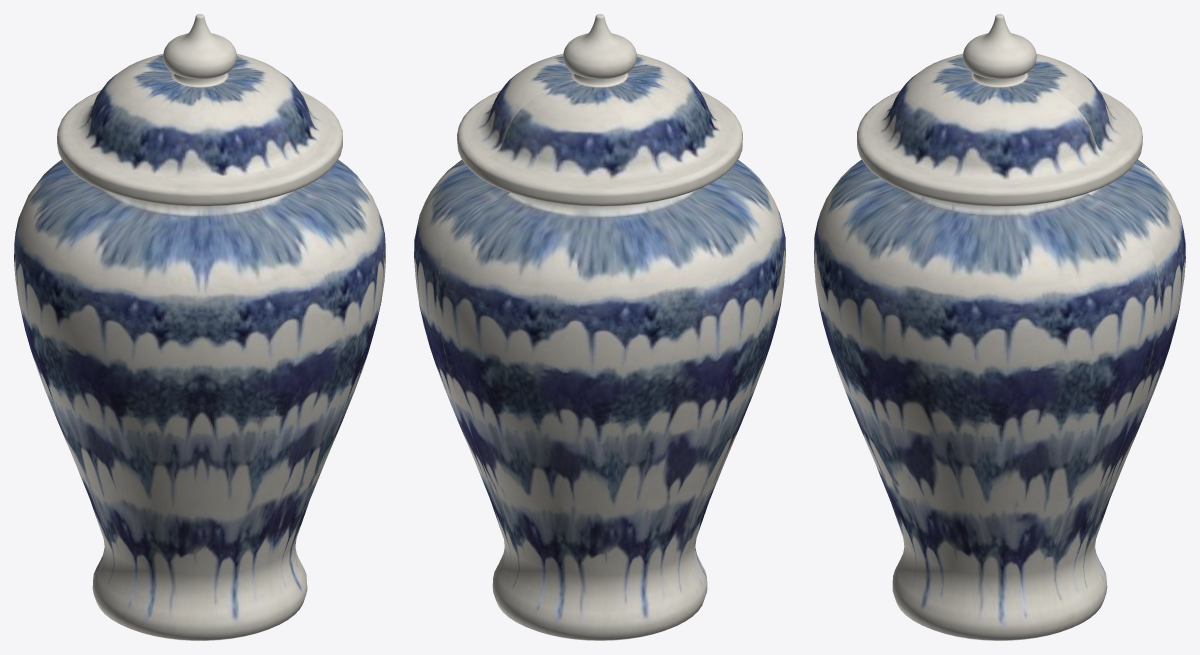
The model's file is Pot5.fbx.
The picture shows the model from 3 angles, left to right: view 1: azimuth 30°, elevation 25°; view 2: azimuth 150°, elevation 25°; view 3: azimuth 270°, elevation 25°; orthographic projection.
Parts seen in each view (by area): view 1: Jar.001; view 2: Jar.001; view 3: Jar.001.
Part boxes in pixels (x1,y1,x2,y2): Jar.001: [14, 14, 385, 640]; Jar.001: [414, 14, 785, 640]; Jar.001: [814, 14, 1185, 640].
Bounding box in the file's own units: 25.96 × 44.99 × 25.95.
1 material, 1 textured.
